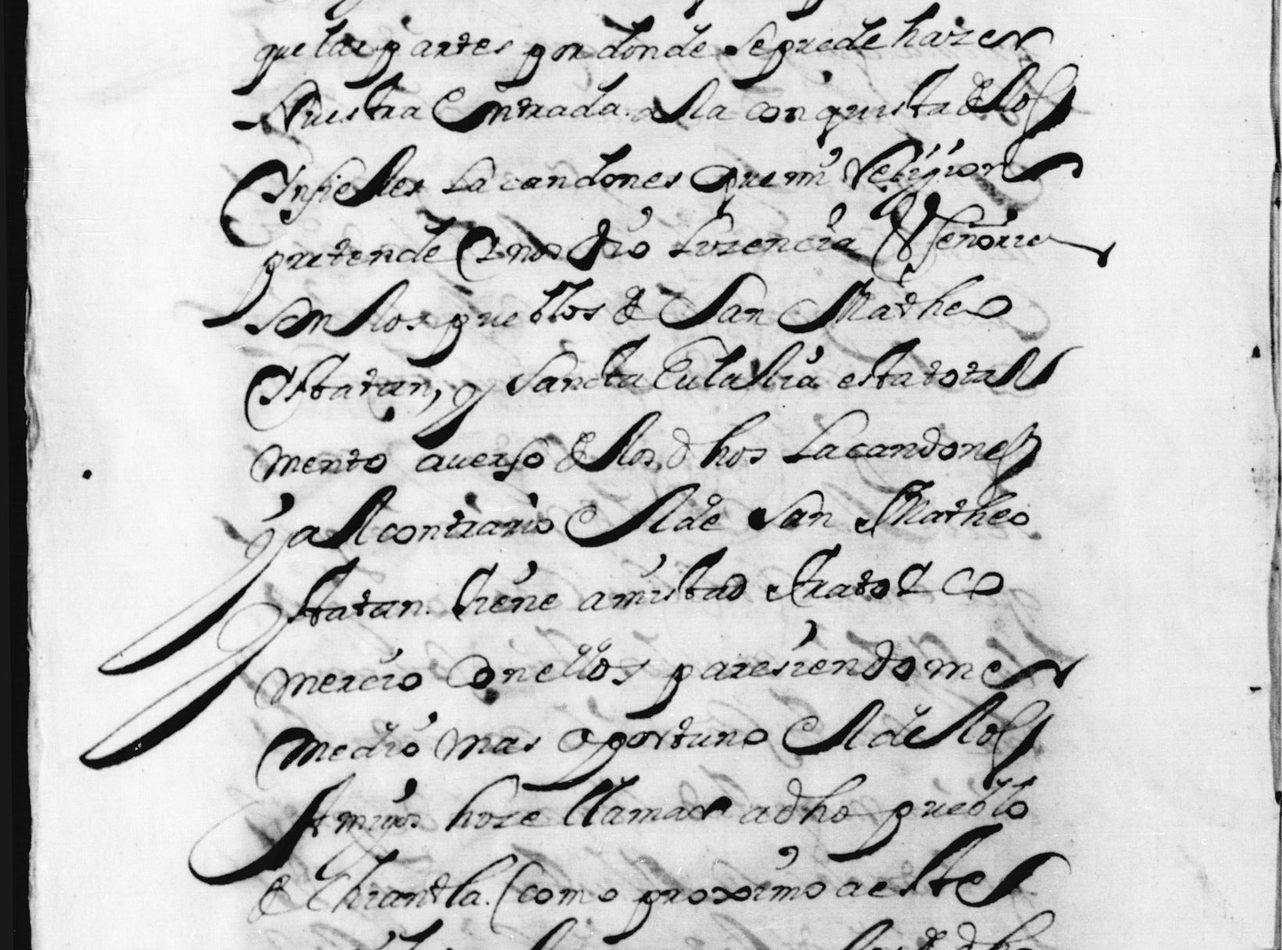lacandon: (781, 409, 1041, 507)
